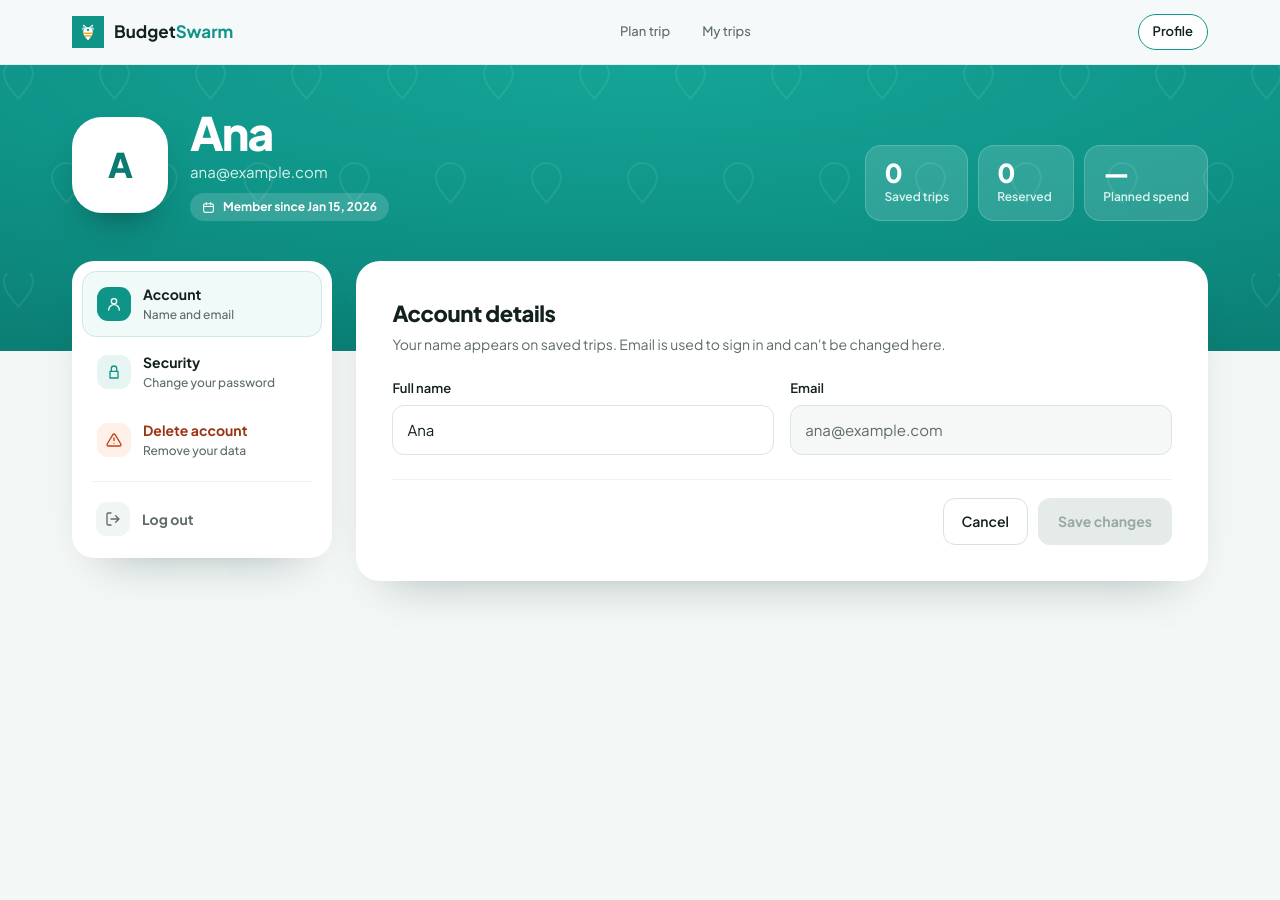
Test: ProfilePage › submits a valid password change and reports success
Click the button "Security Change your password": (202, 372) [82,339,322,405]
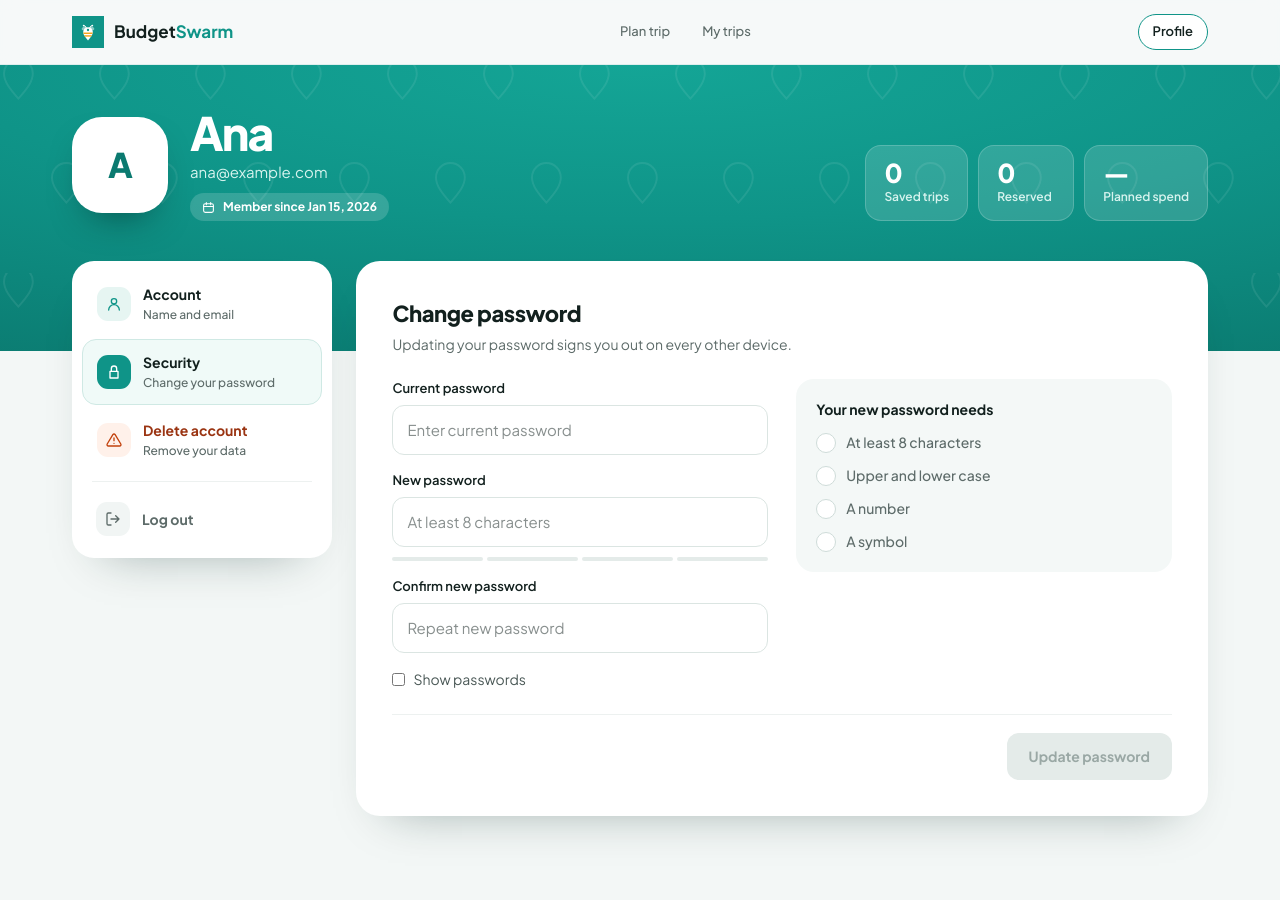
In the password field labelled "Current password": (580, 430) [392,404,768,455], type "password123"
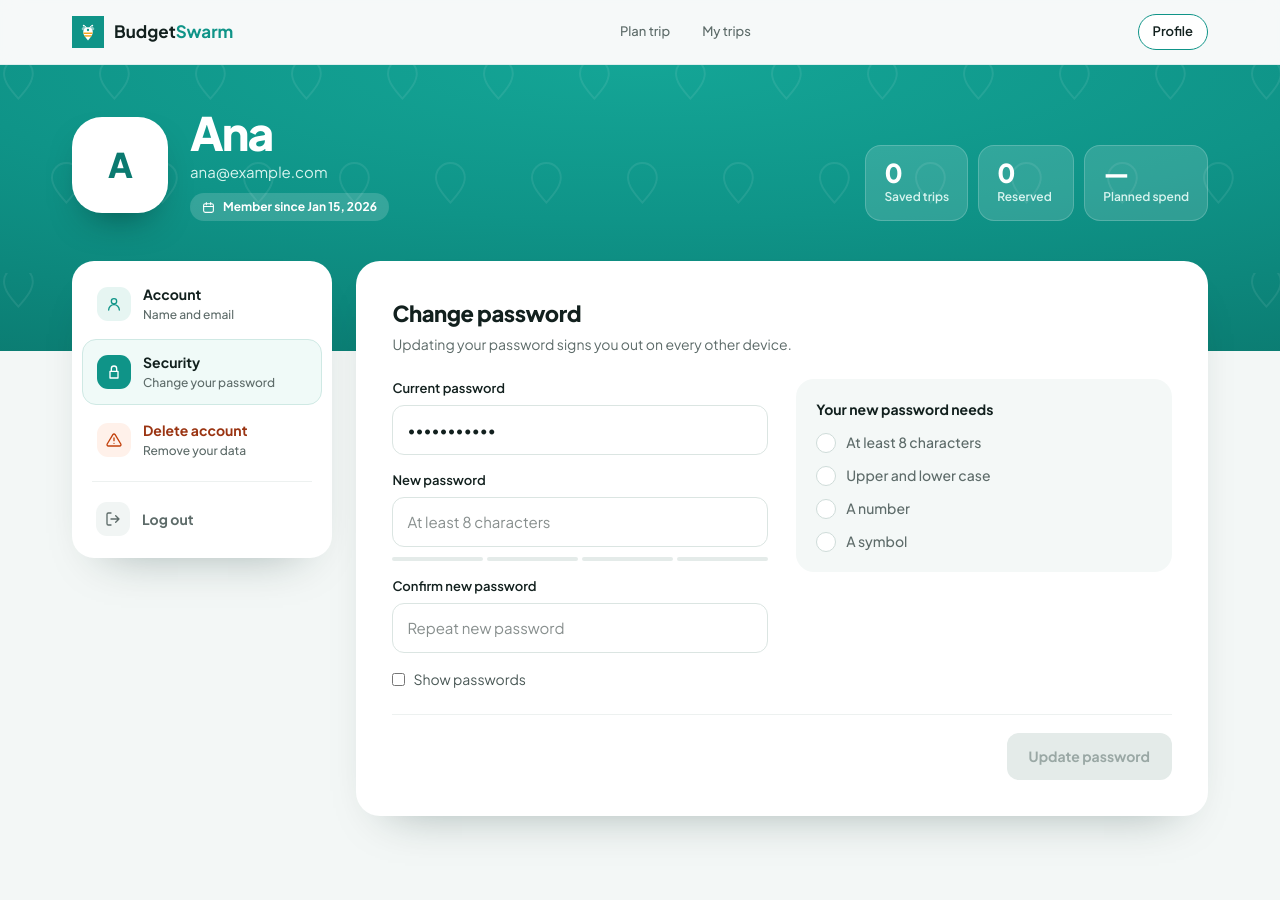
In the password field labelled "New password": (580, 522) [392,496,768,547], type "newpassword456"
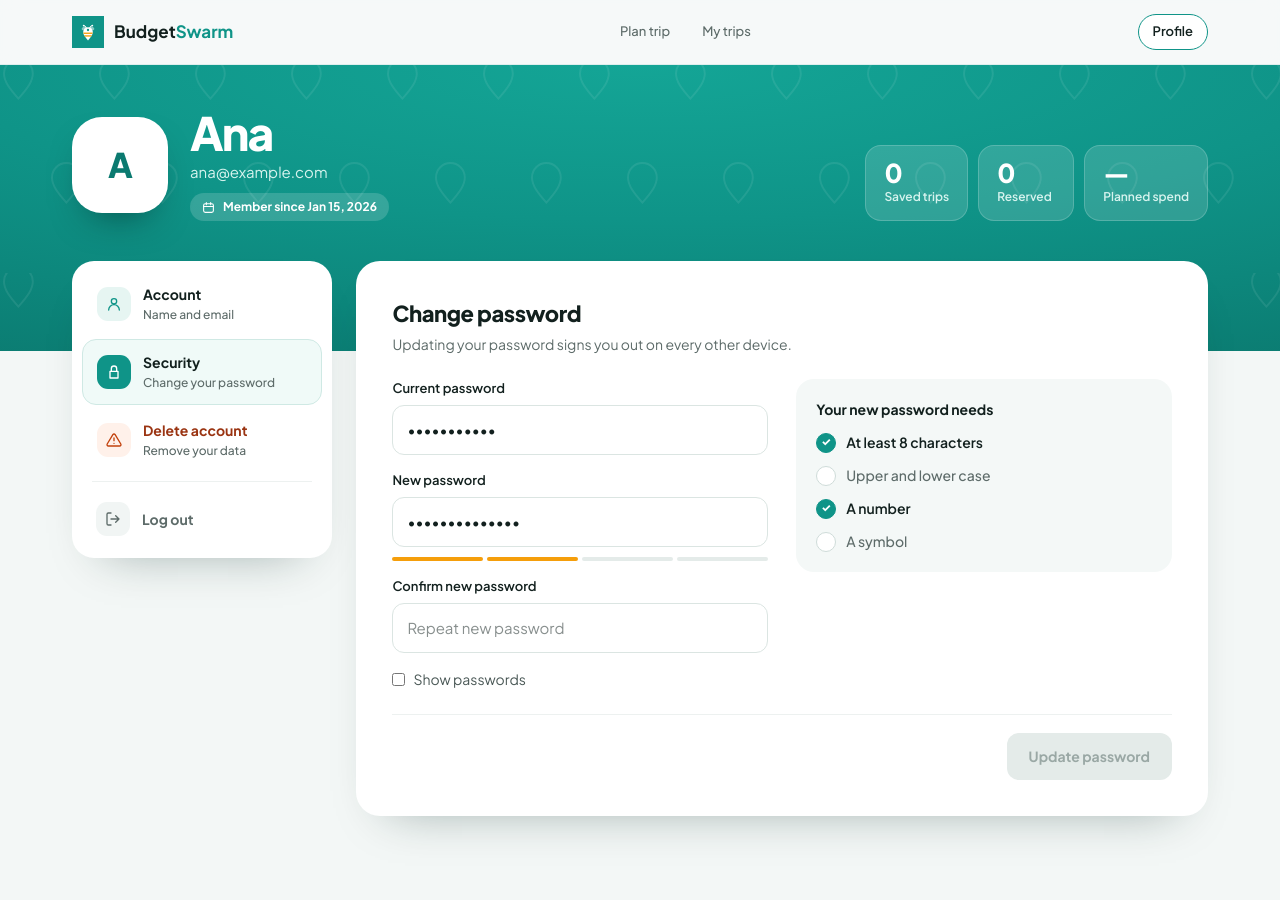
In the password field labelled "Confirm new password": (580, 628) [392,602,768,653], type "newpassword456"
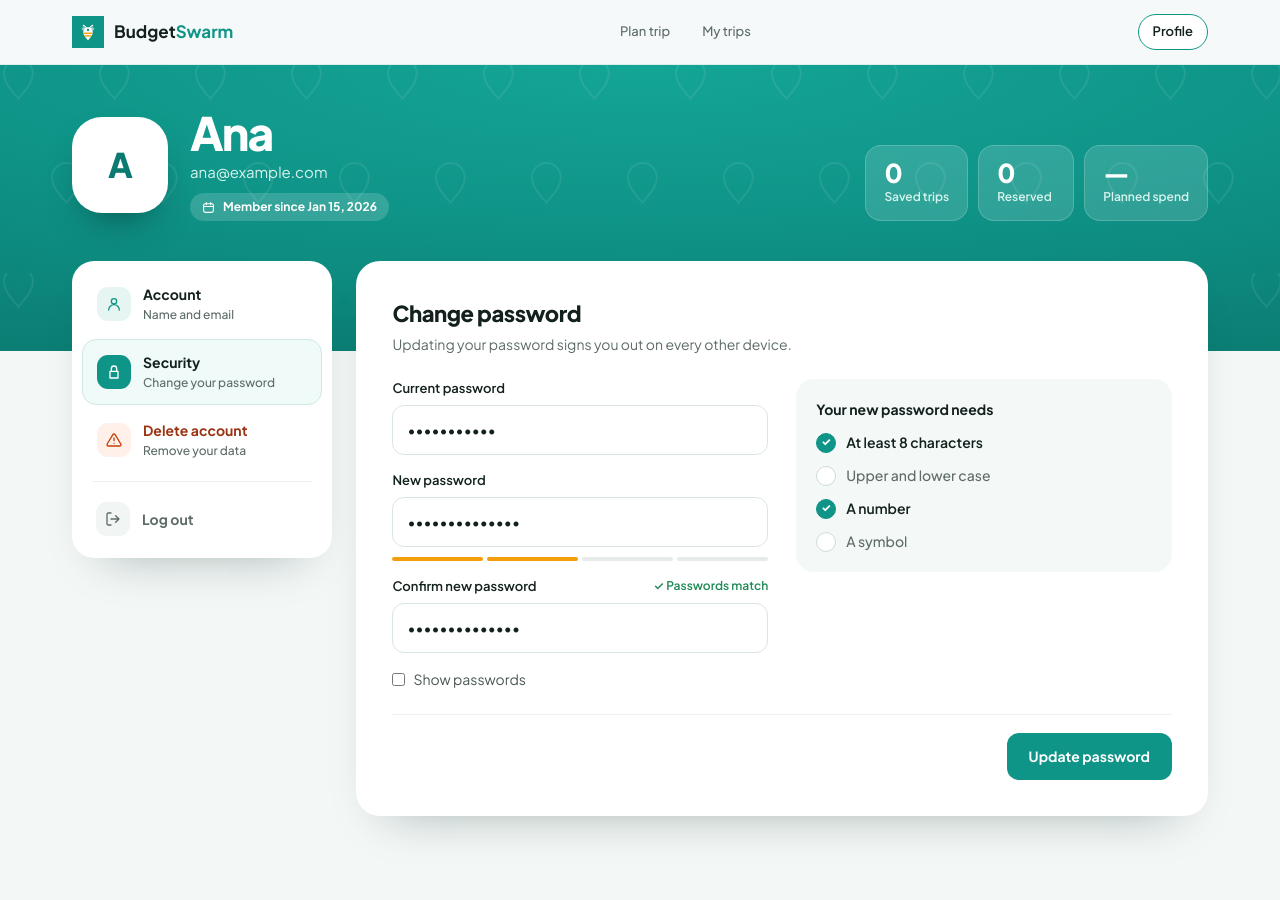
Click the button "Update password": (1089, 756) [1007,733,1172,780]
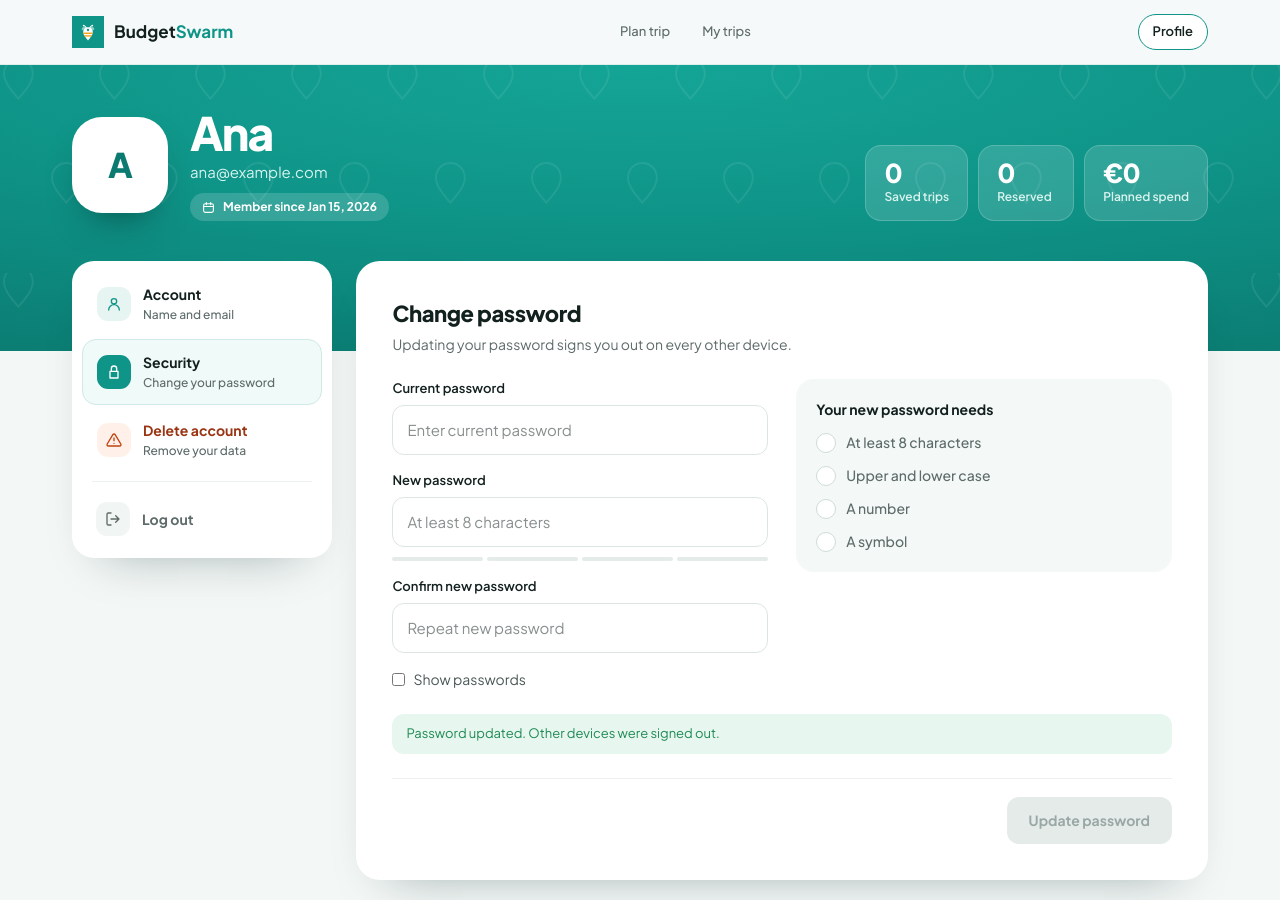
Now the text "Password updated. Other devices were signed out." is shown, box [392,714,1172,754]
